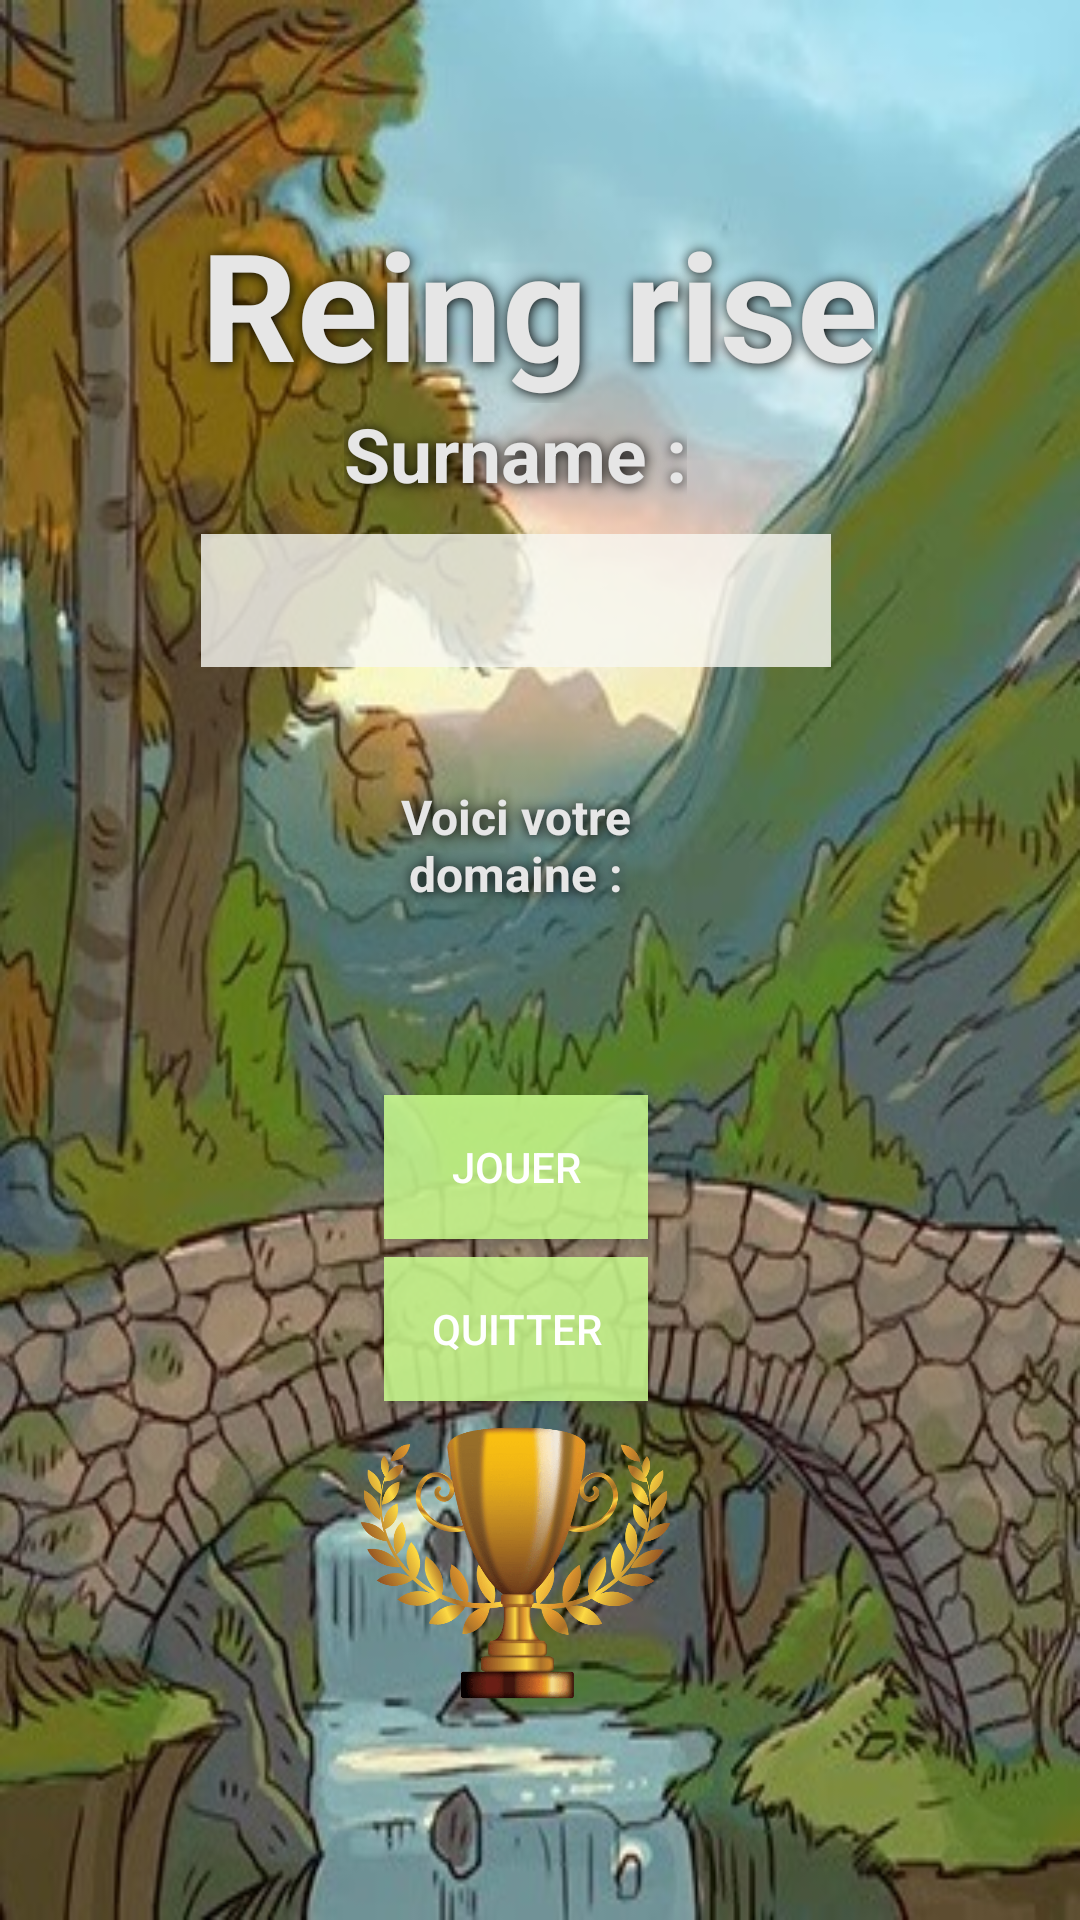

Icon click points for this 1080x1920 phone screenshot, format point (x, y):
trophe: point (515, 1563)
